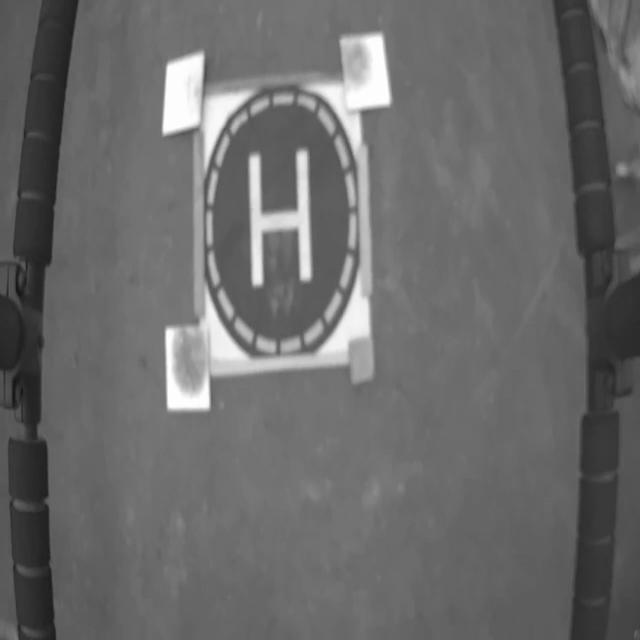Helipad: (249, 145, 313, 290)
